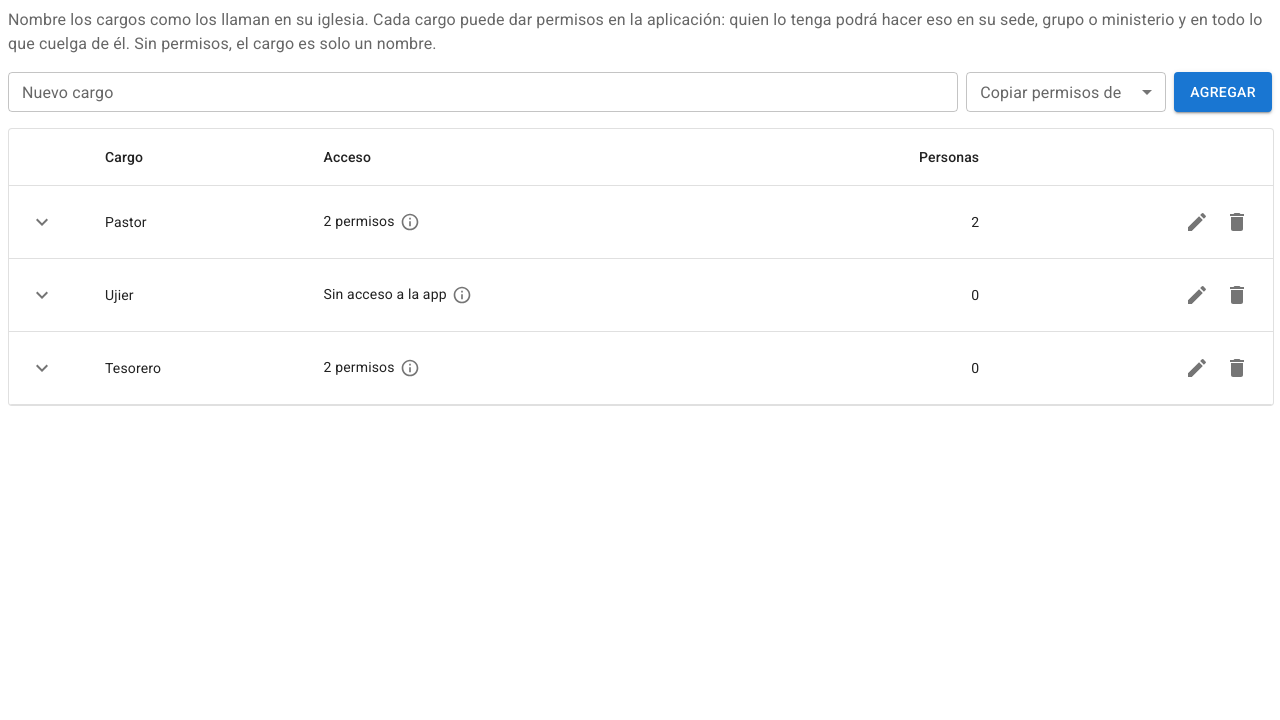
PositionsManager › does not offer to save until something changes
Click the button named "Abrir Ujier".
click(42, 295)  # box [25,278,59,312]
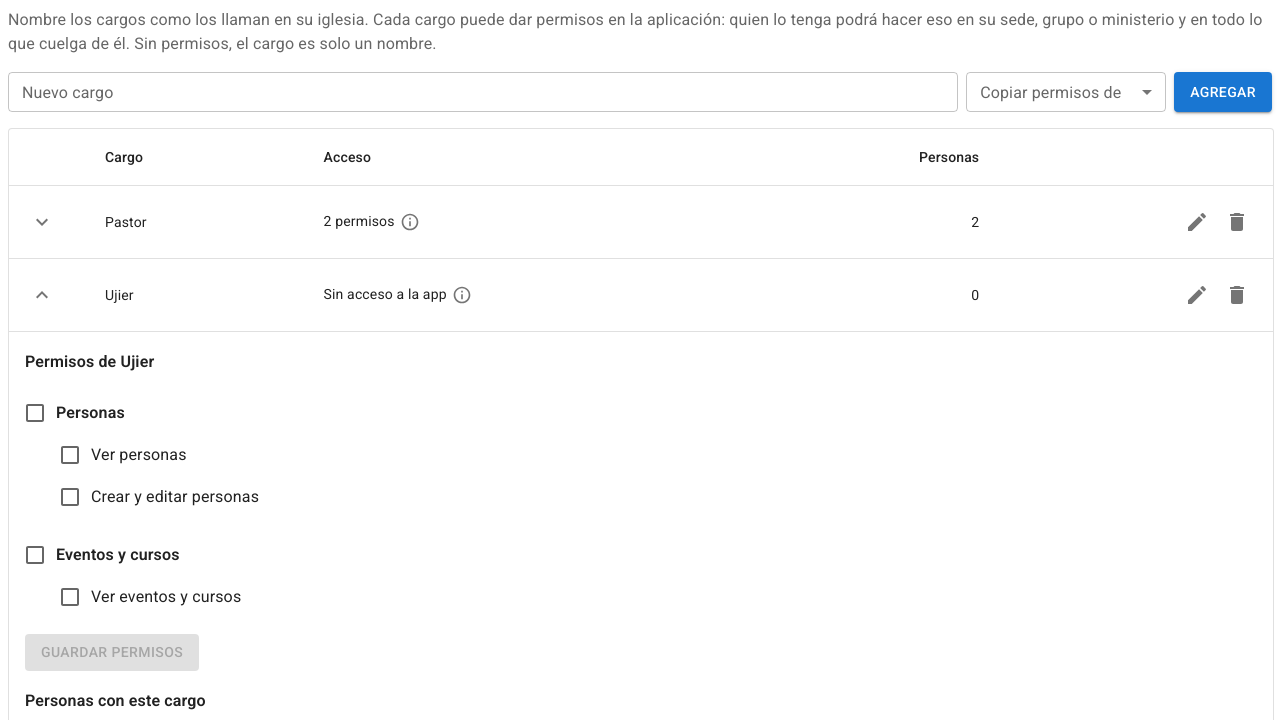
Expected: the button "Guardar permisos" is disabled, [25,634,199,670]
